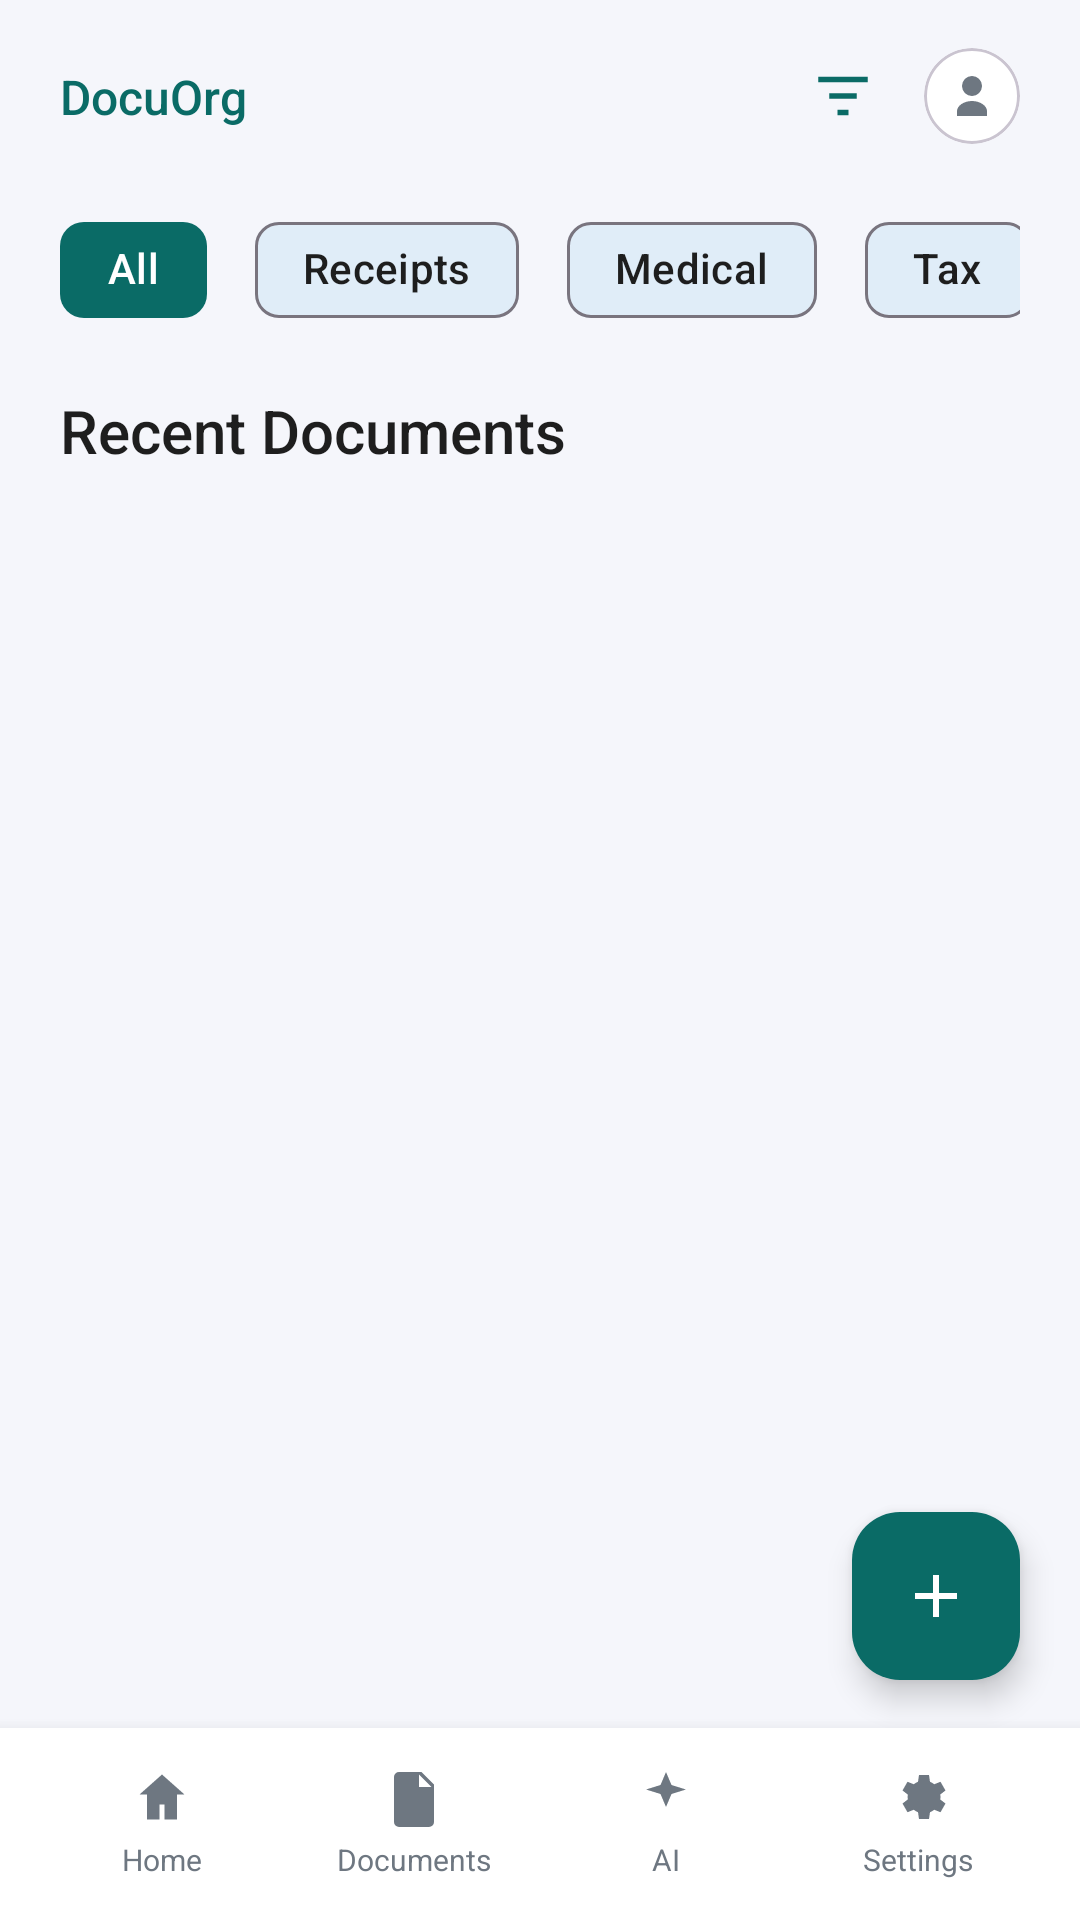

Locate icon controls on the screen. Image size 1080w x 1920h, boxes as (x1, y1, x2, y2).
Add document: (852, 1512, 1020, 1680)
Filter: (818, 76, 868, 116)
Profile: (924, 48, 1020, 144)
